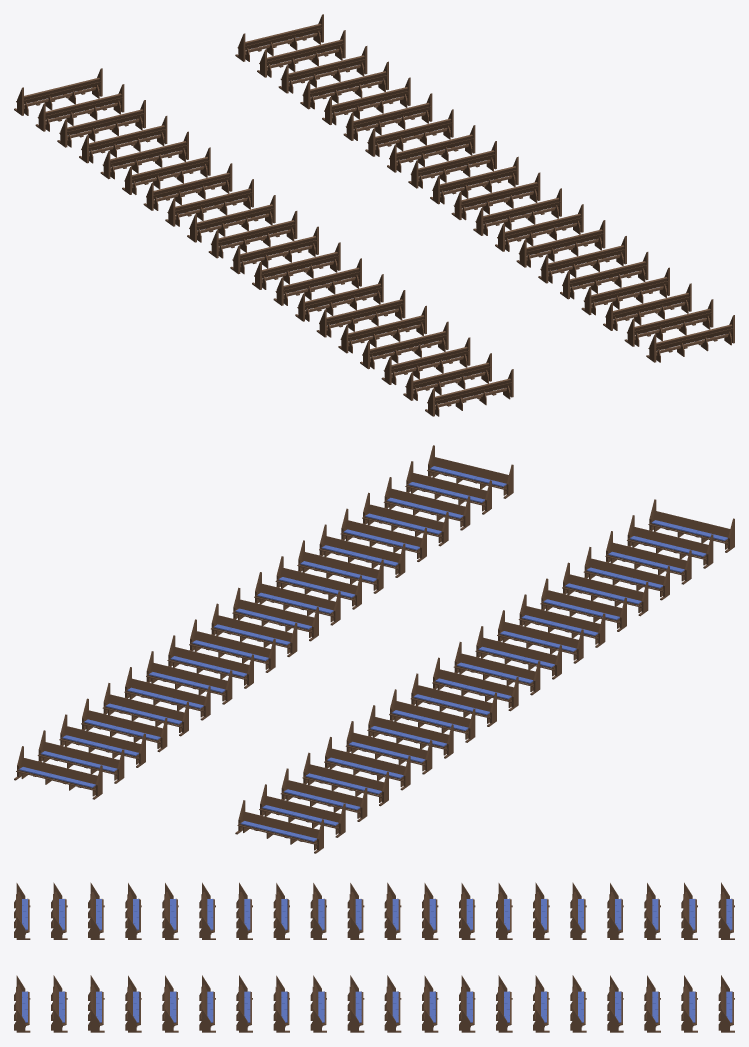
Rendered from AFA_pew.fbx.
3 renders of one model, top to bottom at view 1: azimuth 30°, elevation 25°; view 2: azimuth 150°, elevation 25°; view 3: azimuth 270°, elevation 25°, orthographic. The views are drawn at different scales.
Visible parts, largest first — view 1: Pew; view 2: Pew; view 3: Pew.
Boxes of the visible parts, x1,y1,x2,y2 form: Pew: (14, 14, 734, 416); Pew: (14, 445, 734, 853); Pew: (14, 882, 734, 1032).
Size of the model in its own units: 3976 by 354 by 9592.
